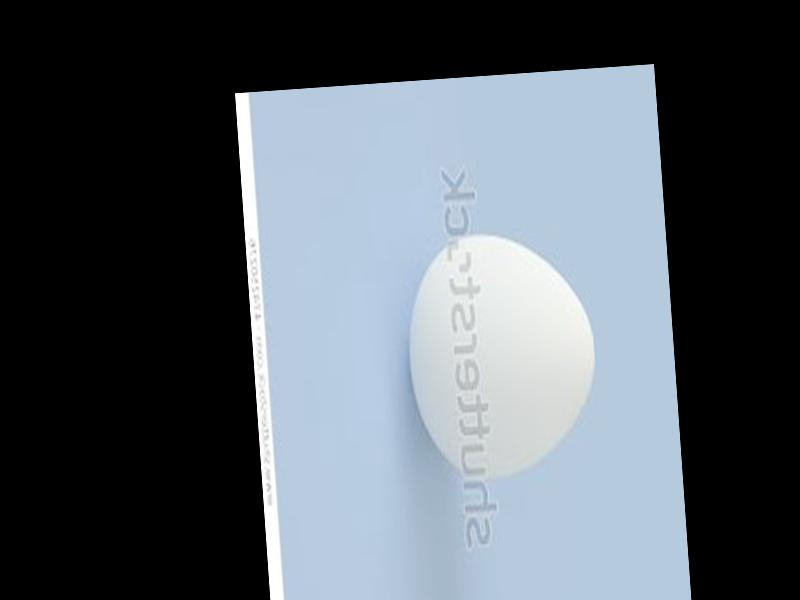Eggs: (399, 226, 602, 483)
